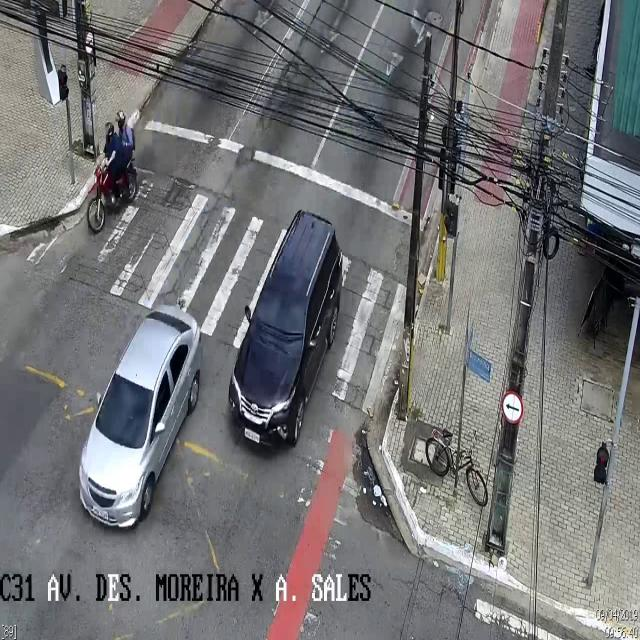Car: (228, 209, 342, 453), (78, 308, 202, 530)
Motorcycle: (87, 109, 139, 233)
